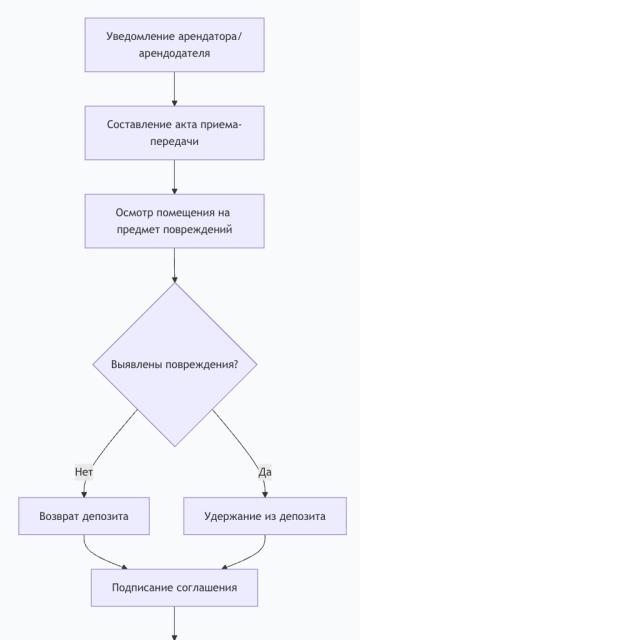arrow: (212, 409, 272, 499), (80, 409, 137, 498), (82, 535, 128, 569), (222, 536, 266, 568), (166, 248, 183, 284), (167, 162, 183, 195), (166, 71, 181, 106), (166, 607, 181, 640)
text_region: (73, 463, 98, 483), (253, 462, 276, 481)
